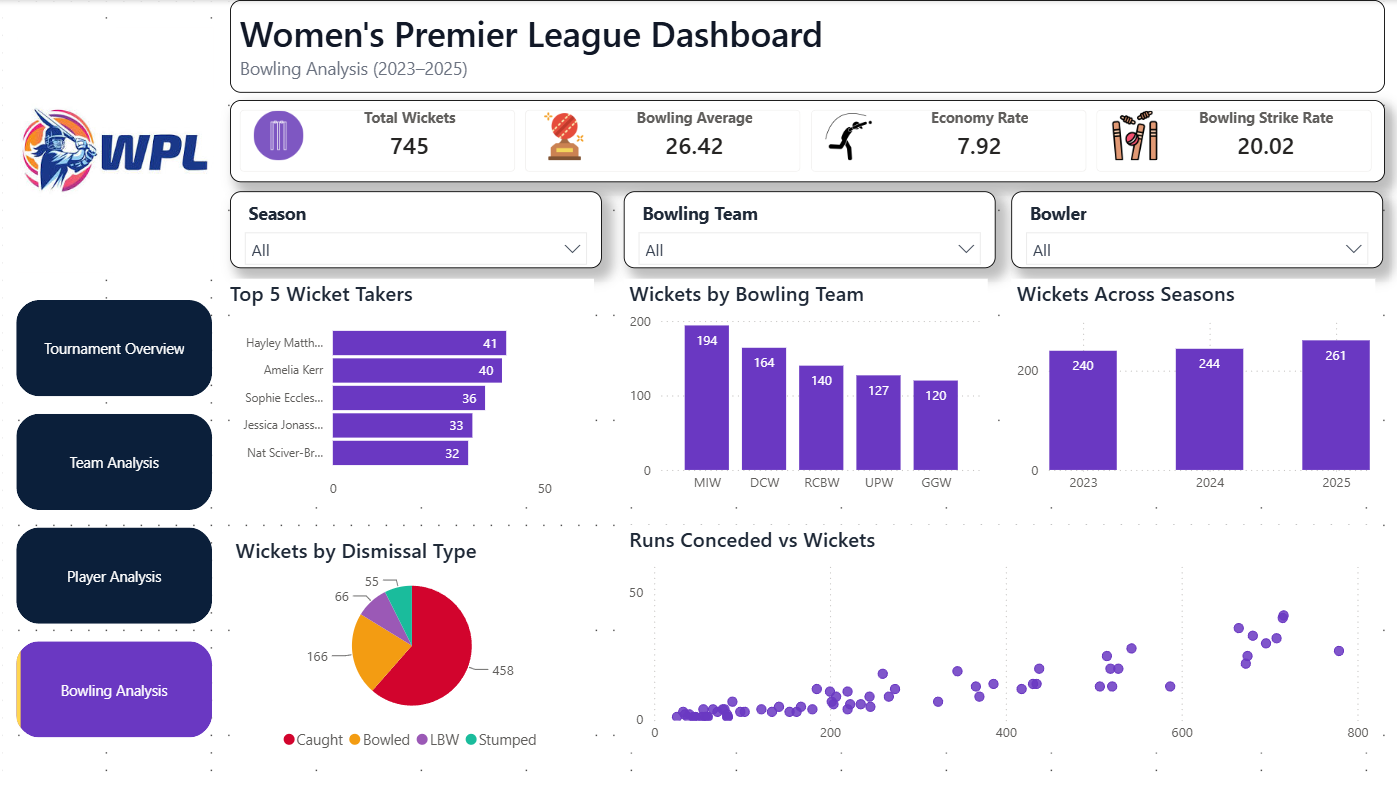

The page's visual inventory and layout, read from the dashboard file:
{"tool":"powerbi","page":{"name":"Bowling Analysis","canvas":[1280,720],"ordinal":3},"visuals":[{"type":"cardVisual","fields":{"Data":["Tournament KPI's.Total Wickets","Player KPI's.Bowling Average","Player KPI's.Economy Rate","Player KPI's.Bowling Strike Rate"]},"box":[210,91,1056,75],"z":0},{"type":"slicer","fields":{"Values":["fact_ball_by_ball.season"]},"box":[210,175,340,70],"z":1000},{"type":"slicer","fields":{"Values":["fact_ball_by_ball.bowling_team"]},"box":[570,175,340,70],"z":2000},{"type":"slicer","fields":{"Values":["fact_ball_by_ball.bowler_full"]},"box":[925,175,340,70],"z":3000},{"type":"clusteredBarChart","title":"Top 5 Wicket Takers","fields":{"Category":["fact_ball_by_ball.bowler_full"],"Y":["Tournament KPI's.Total Wickets"]},"box":[210,255,333,205],"z":4000},{"type":"textbox","box":[210,0,1056,85],"z":5000},{"type":"clusteredColumnChart","title":"Wickets by Bowling Team","fields":{"Category":["fact_ball_by_ball.bowling_team"],"Y":["Tournament KPI's.Total Wickets"]},"box":[570,255,333,205],"z":6000},{"type":"clusteredColumnChart","title":"Wickets Across Seasons","fields":{"Category":["fact_ball_by_ball.season"],"Y":["Tournament KPI's.Total Wickets"]},"box":[925,255,333,205],"z":7000},{"type":"pageNavigator","box":[15,274.4,179,400.6],"z":8000,"group":"g1"},{"type":"pieChart","title":"Wickets by Dismissal Type","fields":{"Category":["fact_ball_by_ball.wicket_type"],"Y":["Tournament KPI's.Wickets by Dismissal Type"]},"box":[210,490,333,205],"z":8000},{"type":"scatterChart","title":"Runs Conceded vs Wickets","fields":{"X":["Player KPI's.Total Runs Conceded"],"Y":["Tournament KPI's.Total Wickets"],"Category":["fact_ball_by_ball.bowler_full"]},"box":[570,480,686,208],"z":9000},{"type":"group","id":"g1","title":"Group 1","box":[15,25,180,650],"z":9001},{"type":"image","box":[16,25,179,224.3],"z":9001,"group":"g1"}]}

Visuals, with their boxes in screenshot pixels (x1, y1, x2, y2), scaled from the page's 1280x720 canvas onto the 1397x786 screenshot:
cardVisual - Tournament KPI's.Total Wickets x Player KPI's.Bowling Average: (x1=229, y1=99, x2=1382, y2=181)
slicer - fact_ball_by_ball.season: (x1=229, y1=191, x2=600, y2=267)
slicer - fact_ball_by_ball.bowling_team: (x1=622, y1=191, x2=993, y2=267)
slicer - fact_ball_by_ball.bowler_full: (x1=1010, y1=191, x2=1381, y2=267)
"Top 5 Wicket Takers" clusteredBarChart: (x1=229, y1=278, x2=593, y2=502)
textbox: (x1=229, y1=0, x2=1382, y2=93)
"Wickets by Bowling Team" clusteredColumnChart: (x1=622, y1=278, x2=986, y2=502)
"Wickets Across Seasons" clusteredColumnChart: (x1=1010, y1=278, x2=1373, y2=502)
pageNavigator: (x1=16, y1=300, x2=212, y2=737)
"Wickets by Dismissal Type" pieChart: (x1=229, y1=535, x2=593, y2=759)
"Runs Conceded vs Wickets" scatterChart: (x1=622, y1=524, x2=1371, y2=751)
"Group 1" group: (x1=16, y1=27, x2=213, y2=737)
image: (x1=17, y1=27, x2=213, y2=272)
